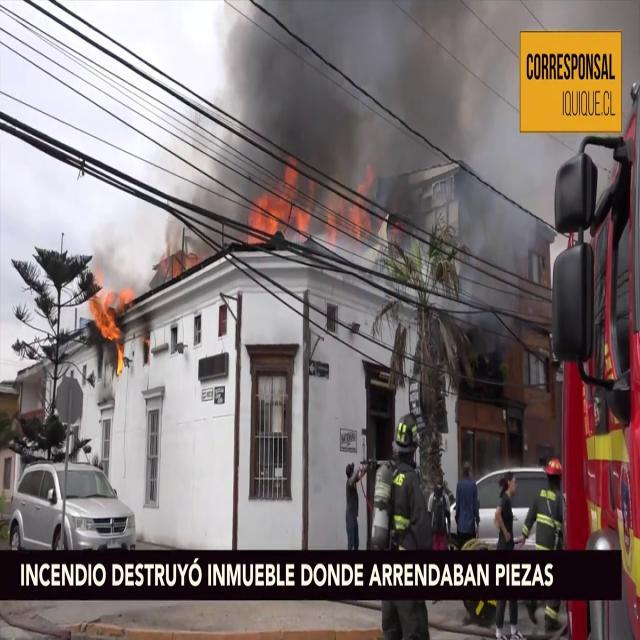Fire: (247, 168, 376, 248), (89, 280, 128, 376)
Smoke: (188, 2, 530, 235)
